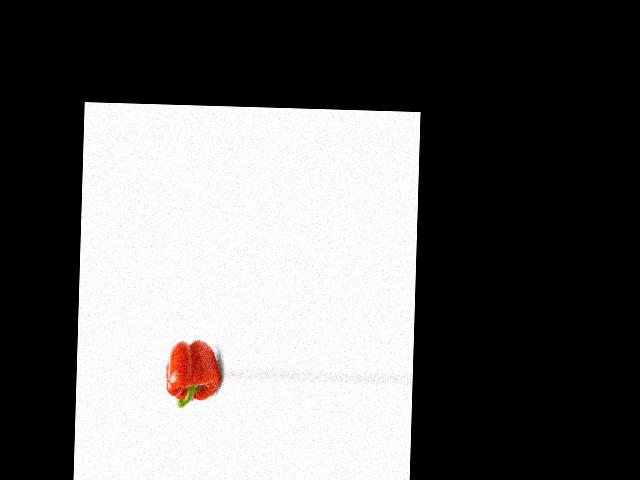bell_pepper: (165, 333, 221, 413)
